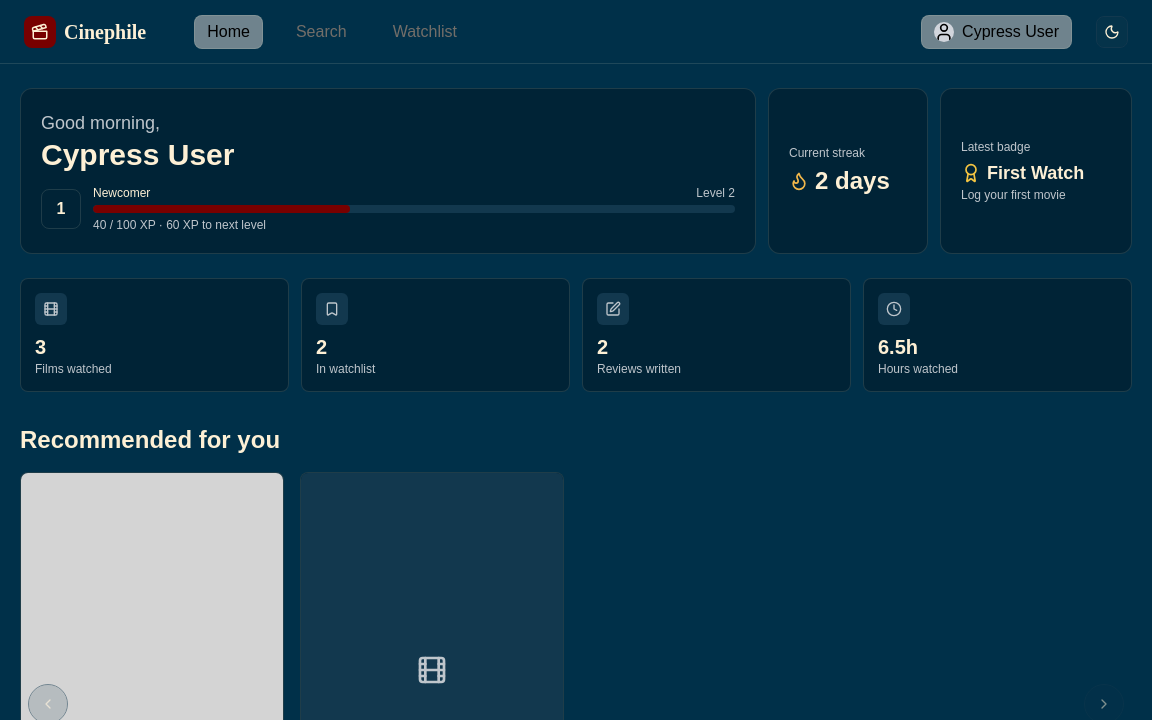
Test: Navigation, theme, and responsive layout › navigates through desktop links
This screenshot has width=1152, height=720.
Click the link "Search": [322, 32] box [296, 23, 347, 40]
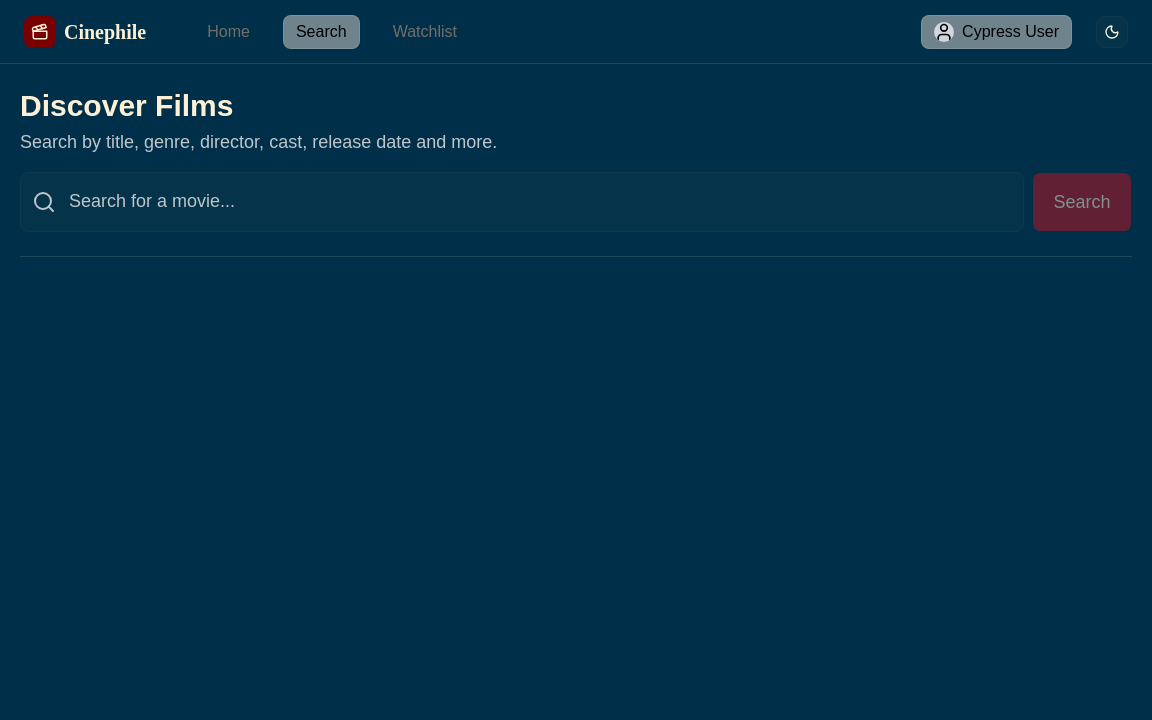
Expected: the heading "Discover Films" is shown, [20, 89, 233, 122]
Click the link "Watchlist": [425, 32] box [393, 23, 457, 40]
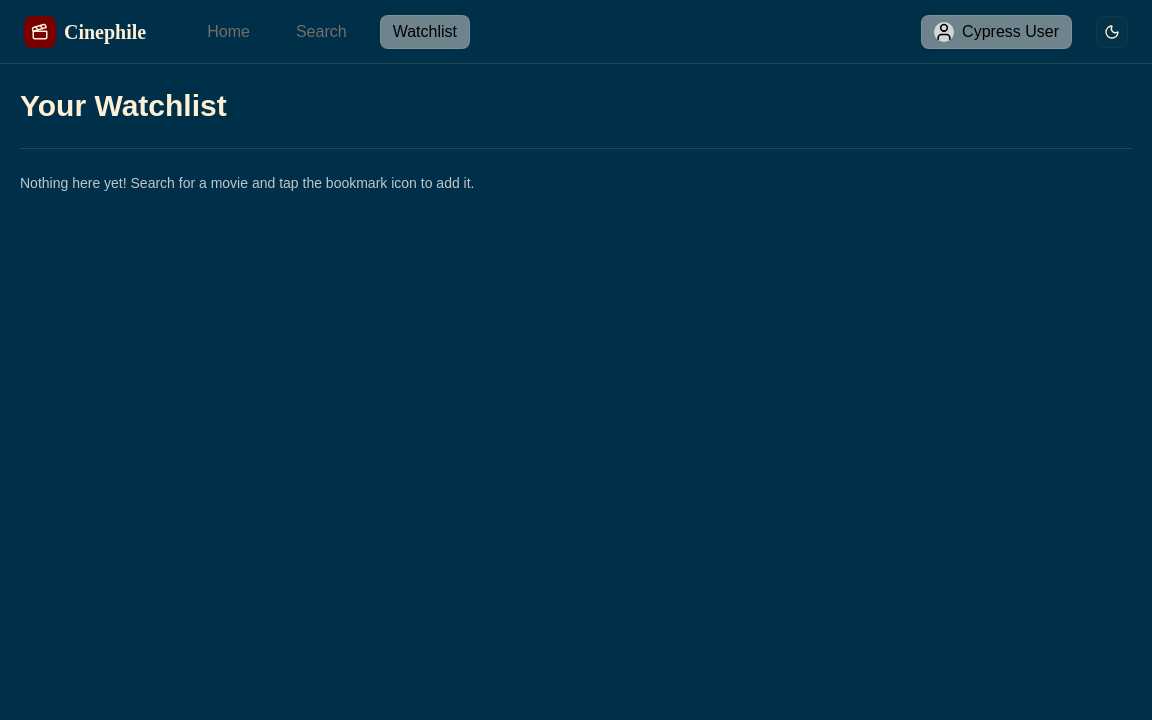
Expected: the heading "Your Watchlist" is shown, [20, 89, 227, 122]
